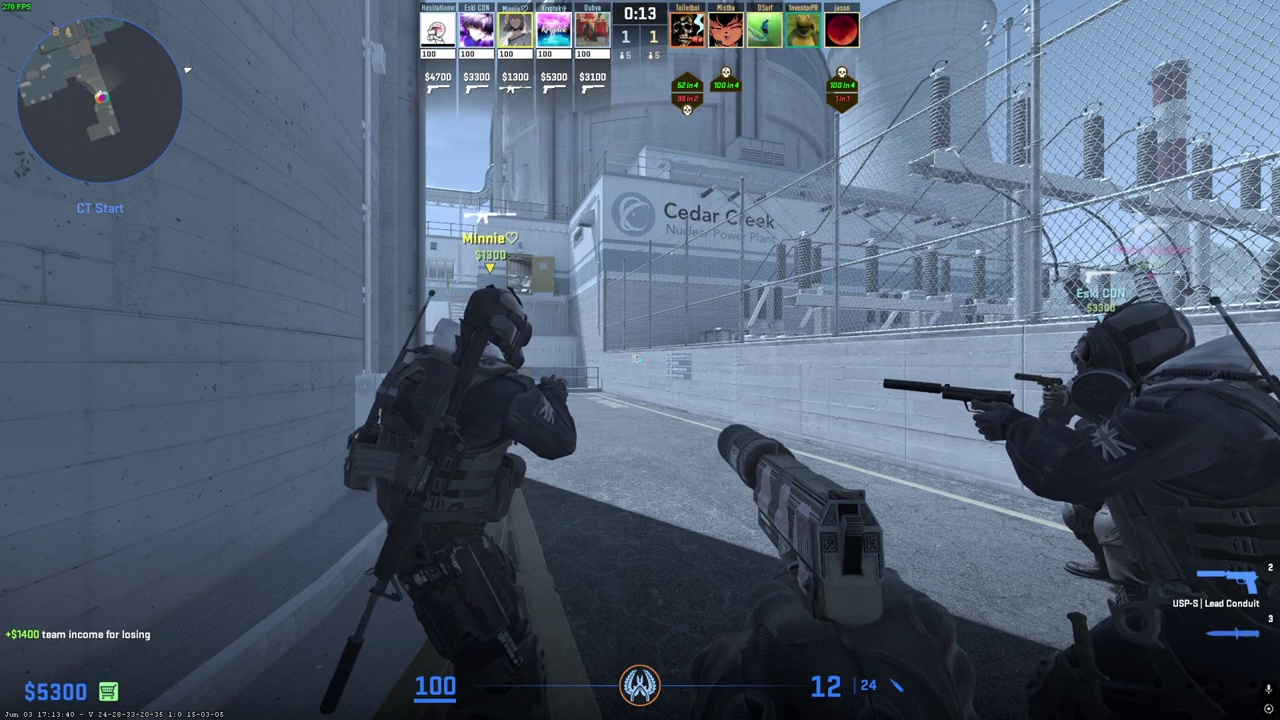CT: (1026, 294, 1280, 720), (372, 285, 564, 720)
